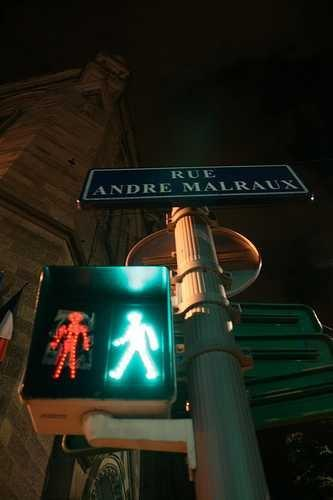green: (107, 297, 170, 397)
red: (40, 297, 102, 401)
